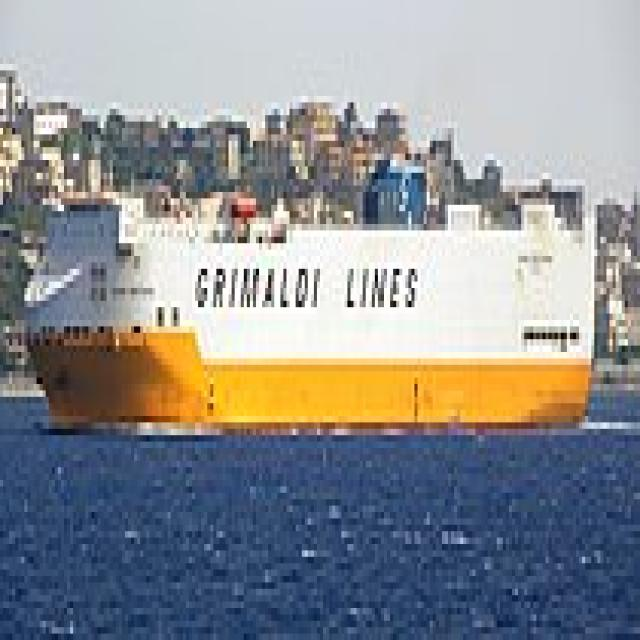Carrier: (16, 167, 594, 436)
